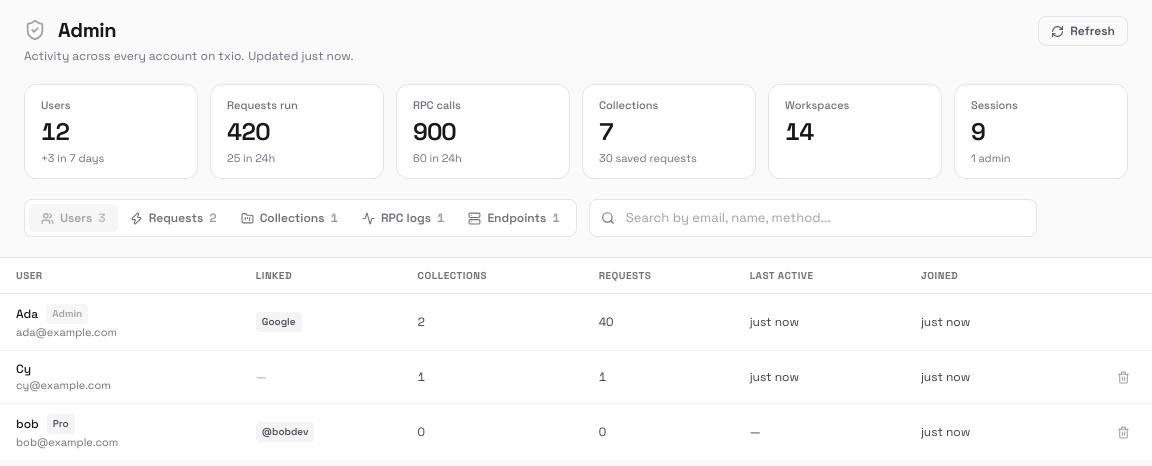
Test: AdminPage › filters the active view by search text
Expected: the text "ada@example.com" is shown, [16,325,117,339]
In the field named "Search admin data": (813, 218) [589,199,1037,237], type "bobdev"
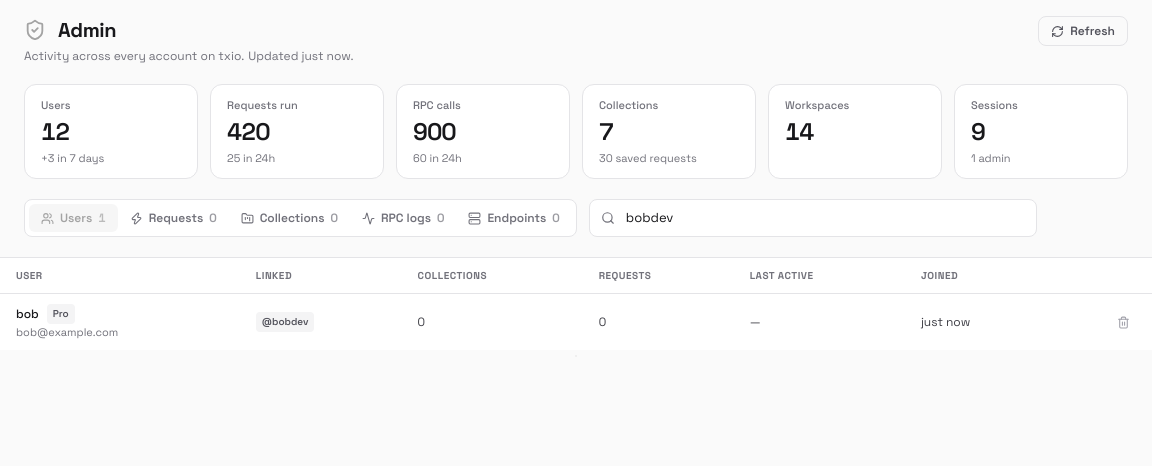
Expected: the text "bob@example.com" is shown, [16,325,118,339]
Expected: the text "ada@example.com" is gone
